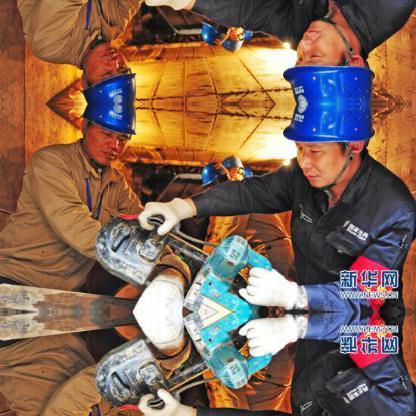helmet: (280, 107, 376, 188), (280, 19, 376, 100), (71, 104, 145, 165), (71, 42, 145, 103), (197, 160, 230, 186), (197, 20, 230, 46), (220, 154, 244, 176), (220, 30, 244, 52)
person: (241, 104, 411, 308), (0, 104, 159, 296), (241, 0, 412, 103), (241, 314, 412, 414), (0, 0, 159, 103), (0, 326, 159, 414), (196, 162, 290, 278), (196, 344, 291, 414), (196, 0, 291, 45)
